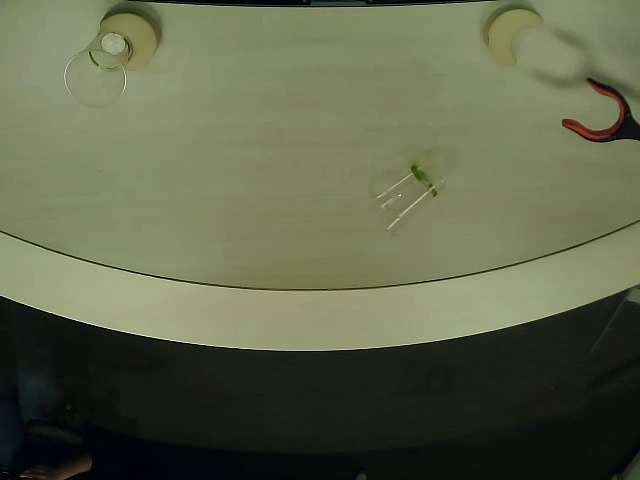Cup: (363, 156, 449, 238), (61, 30, 136, 111)
Deliver: (98, 6, 164, 75), (486, 4, 545, 72)
